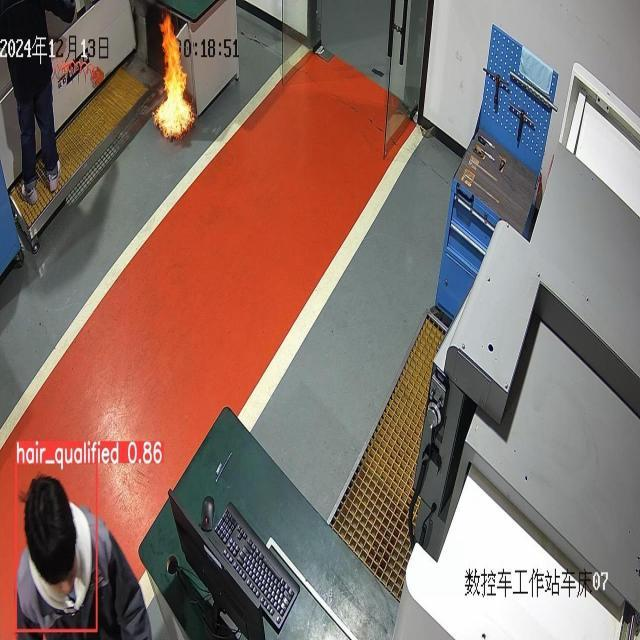smoke: (150, 11, 198, 145)
